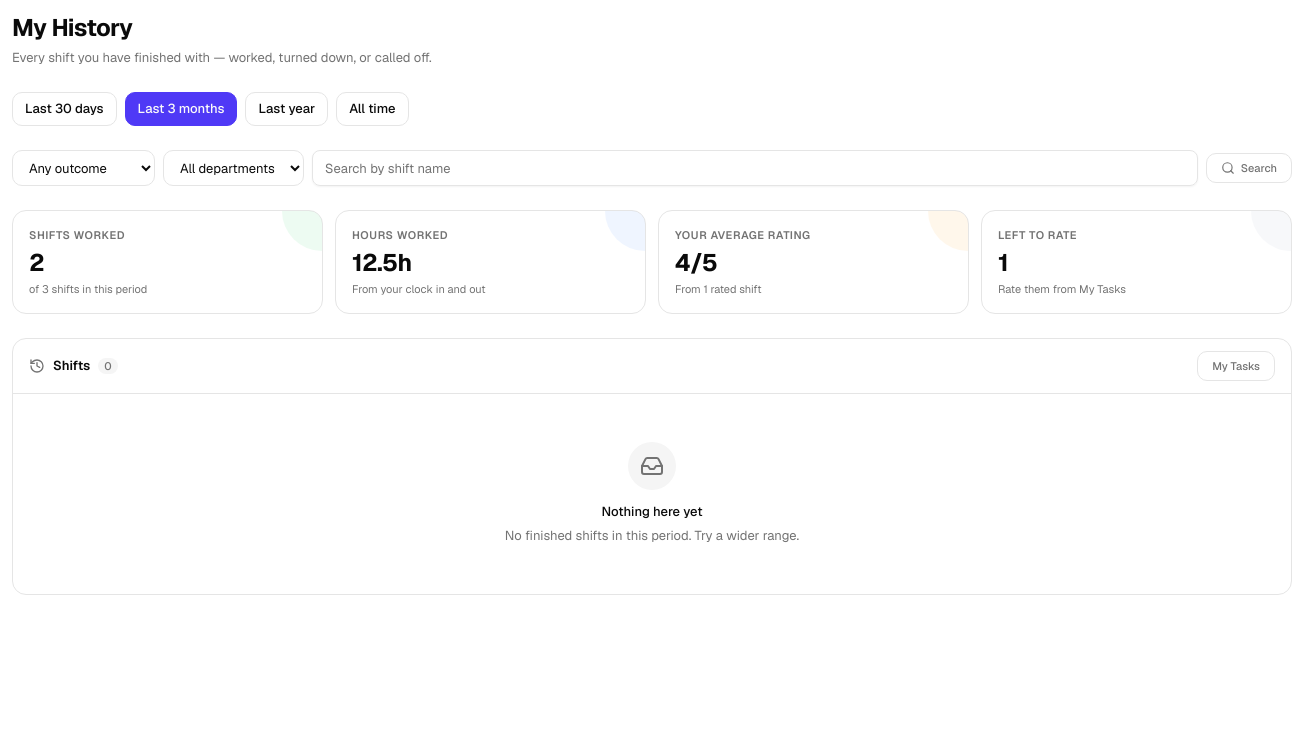
it: when there is nothing to show › blames the filters when filters are set
Expected: the heading "Nothing here yet" is shown, [602, 503, 702, 520]
Select "Declined" in the dropdown named "Outcome": point(84, 168) [12, 150, 155, 186]
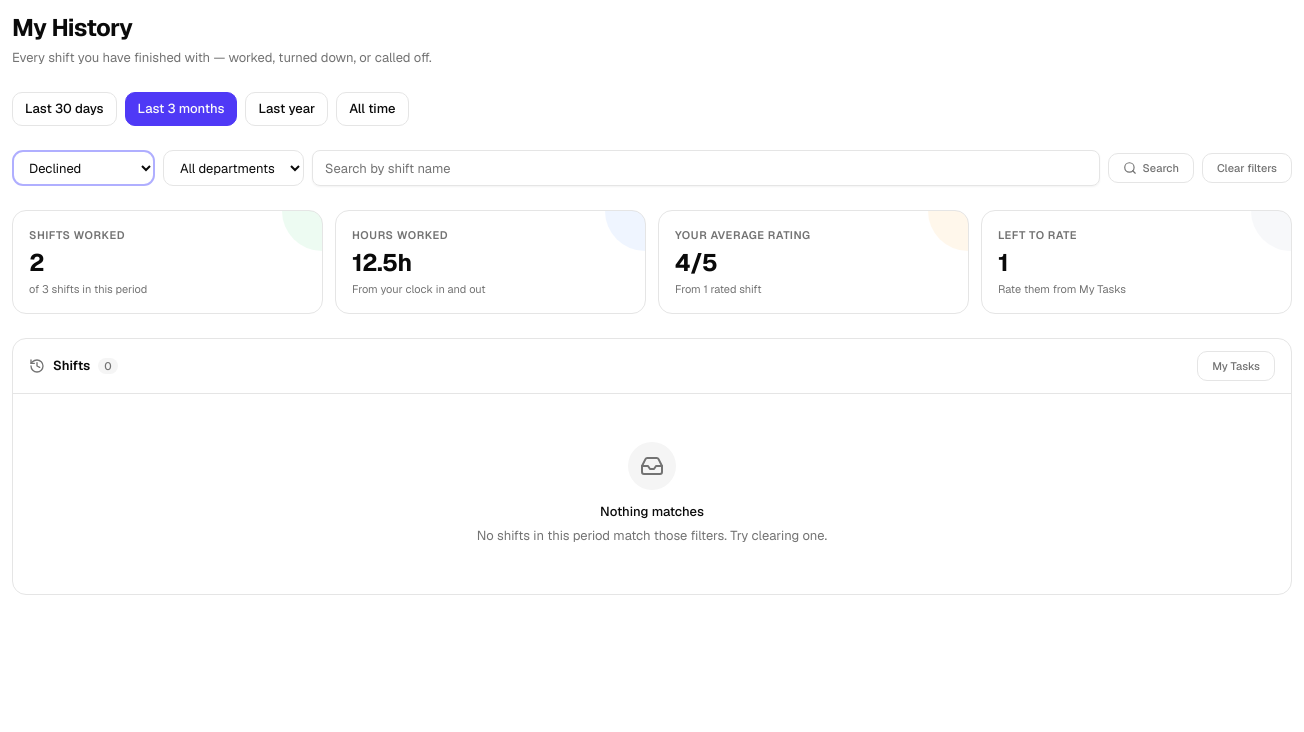
Result: the heading "Nothing matches" is shown at [600, 503, 704, 520]
